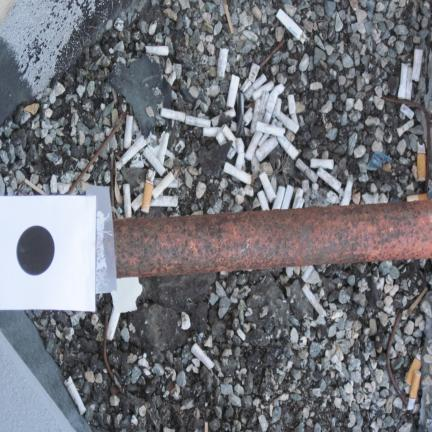karat: (114, 201, 431, 277)
